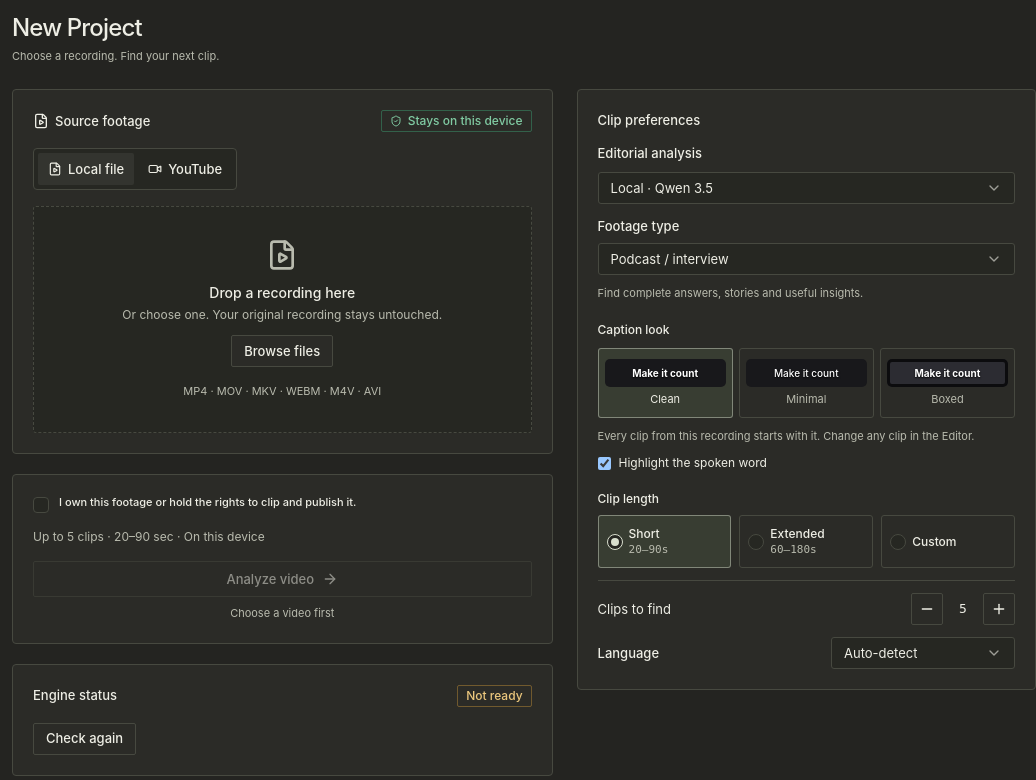
Test: the New Project screen › lets the bounds be set by hand, and refuses a range that is backwards
Click the button "Browse files" at (282, 351), box left=231, top=335, right=333, bottom=367
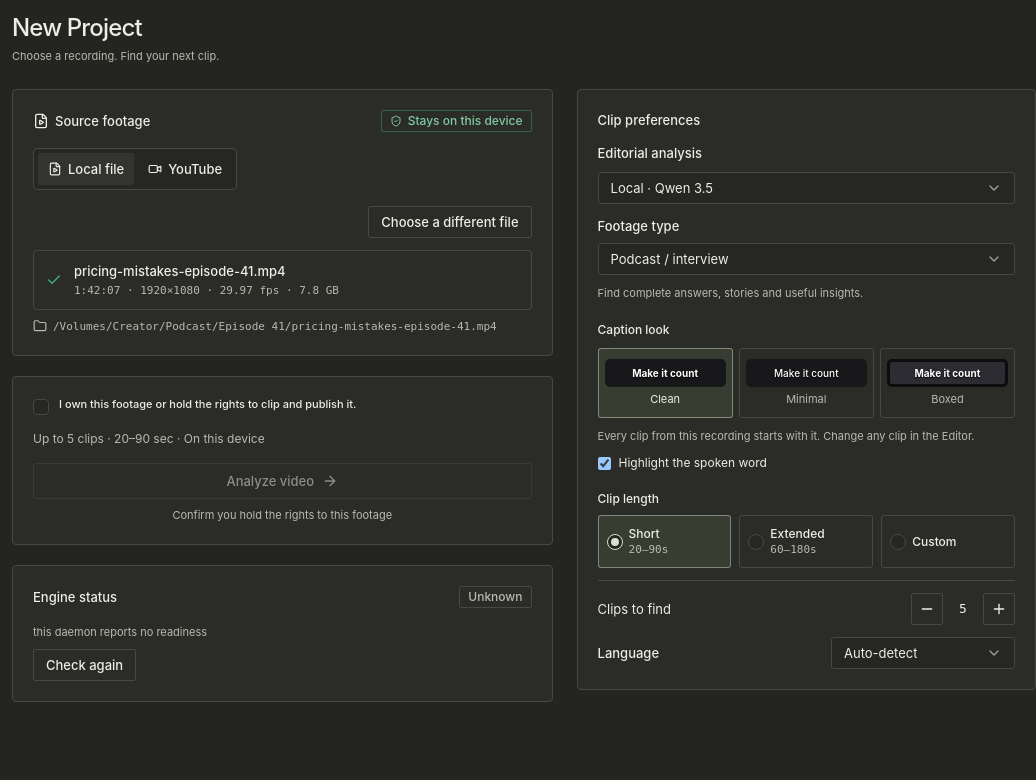
Result: the text "pricing-mistakes-episode-41.mp4" is shown at left=74, top=263, right=286, bottom=279
Click the checkbox named "I own this footage" at (41, 407), box left=33, top=399, right=49, bottom=415
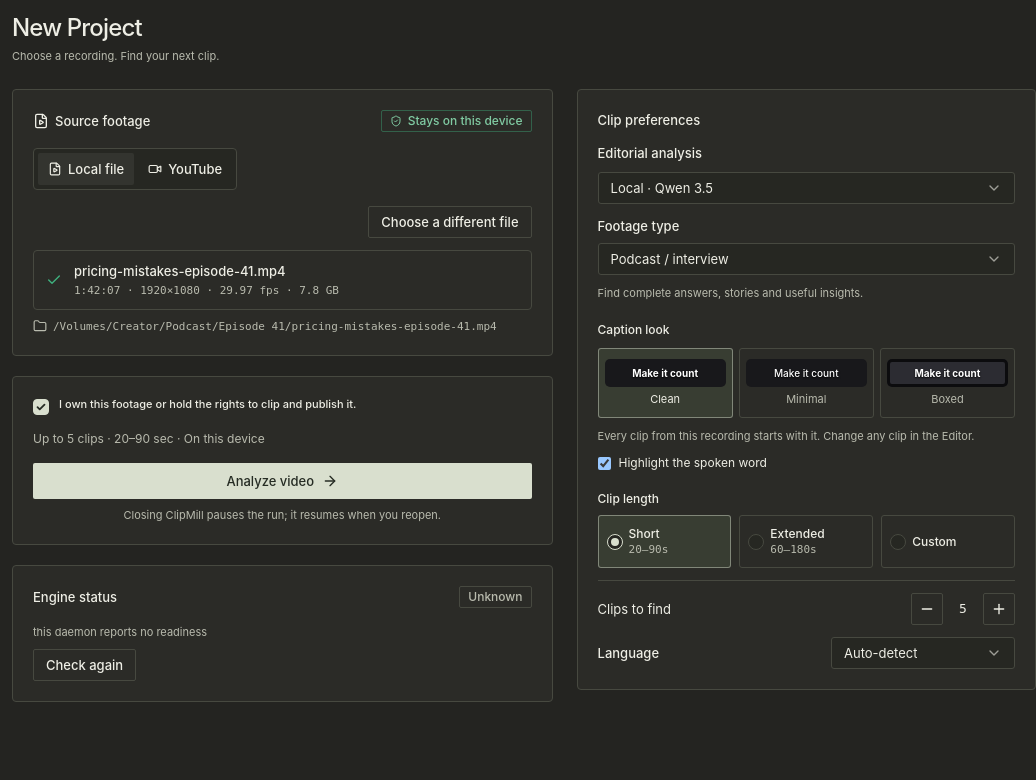
Click the radio button named "Custom" next to "Custom" at (898, 542), box left=890, top=534, right=906, bottom=550
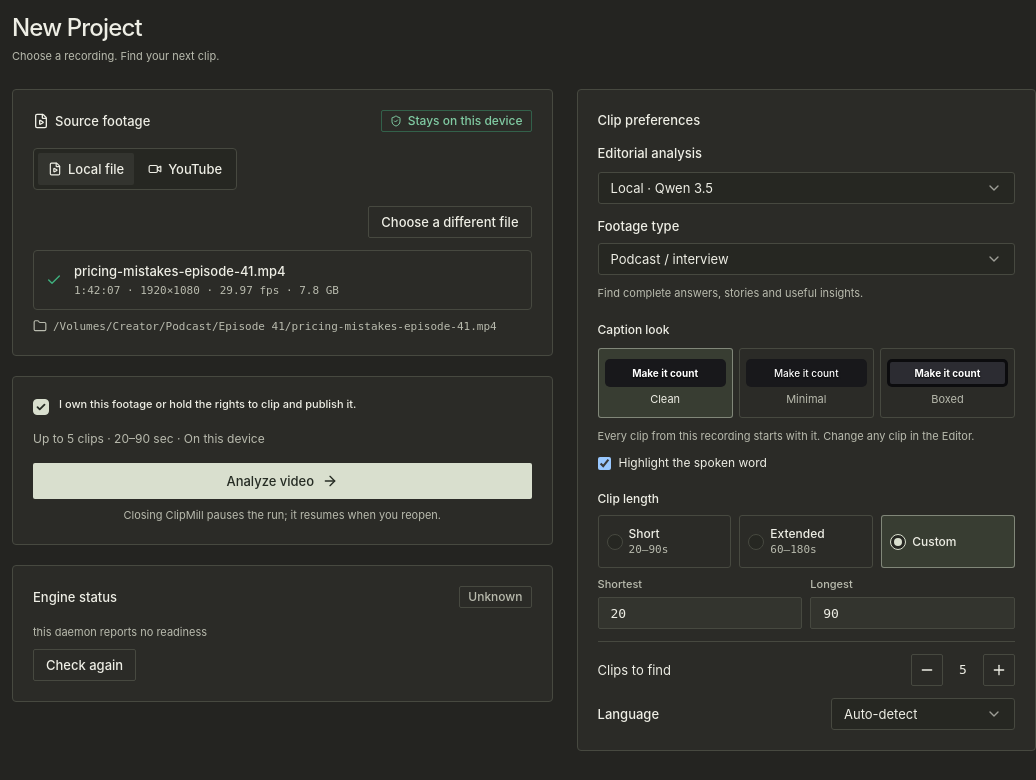
Replace the text in the number field labelled "Shortest" with "200" at (700, 613), box left=598, top=597, right=802, bottom=629
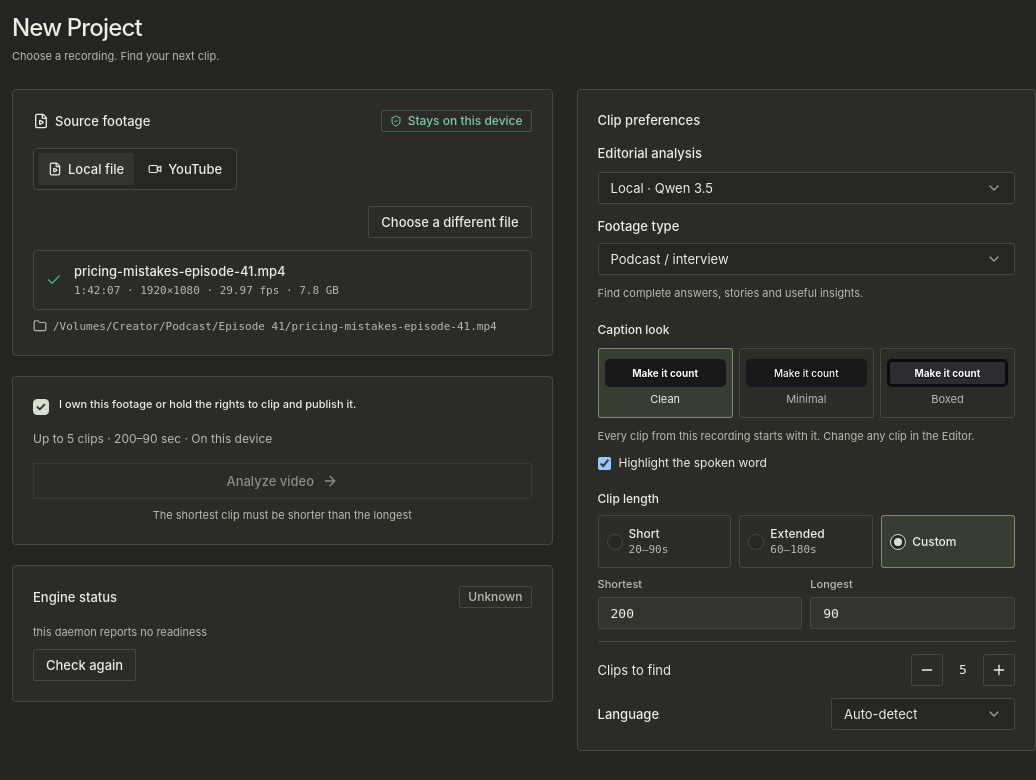
Result: the text "The shortest clip must be shorter than the longest" is shown at left=153, top=508, right=412, bottom=522
